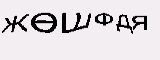Д: (115, 10, 132, 35)
Ж: (1, 12, 30, 34)
Ф: (93, 7, 116, 31)
Ш: (61, 10, 94, 33)
Я: (131, 10, 151, 33)
Ө: (30, 10, 58, 35)
